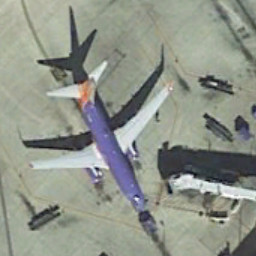Airplane: (23, 44, 202, 236)
